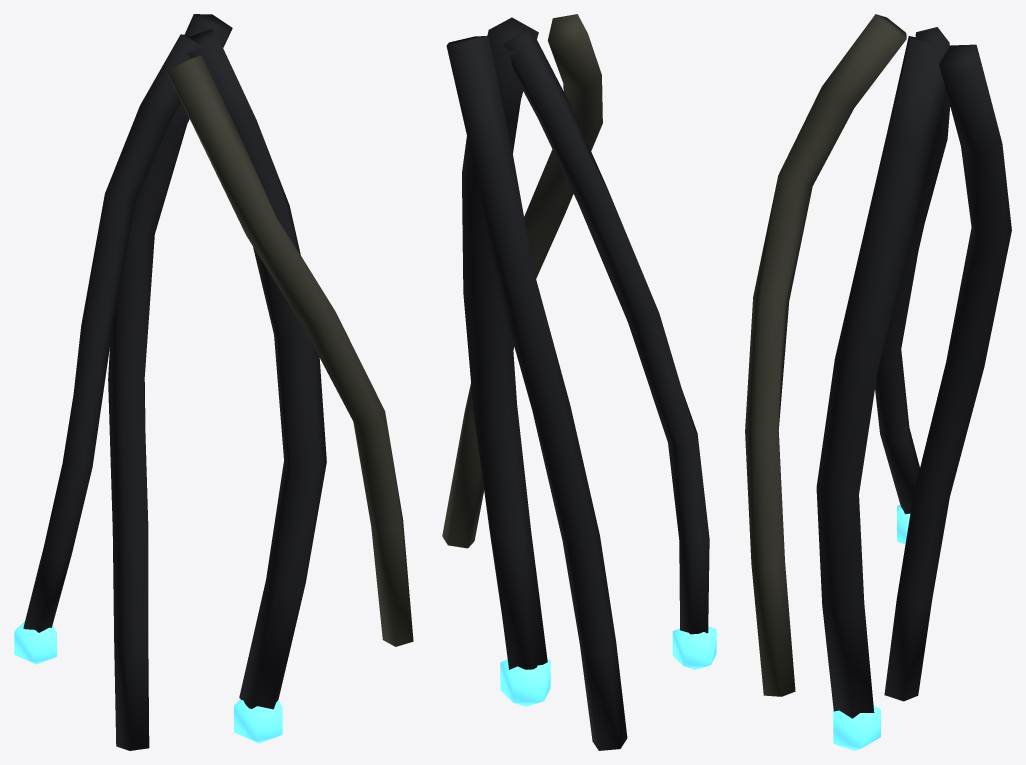
The model's file is dc_cable_bundle.glb.
3 views of the same model, side by side, from view 1: azimuth 30°, elevation 25°; view 2: azimuth 150°, elevation 25°; view 3: azimuth 270°, elevation 25° (orthographic). The views are drawn at different scales.
Parts seen in each view (by area): view 1: part.dc_cable_bundle; view 2: part.dc_cable_bundle; view 3: part.dc_cable_bundle.
Part boxes in pixels (<box>): part.dc_cable_bundle: <box>14,14,413,750</box>; part.dc_cable_bundle: <box>442,14,716,750</box>; part.dc_cable_bundle: <box>745,14,1011,750</box>.
Size of the model in its own units: 0.5106 by 1.03 by 0.3511.
